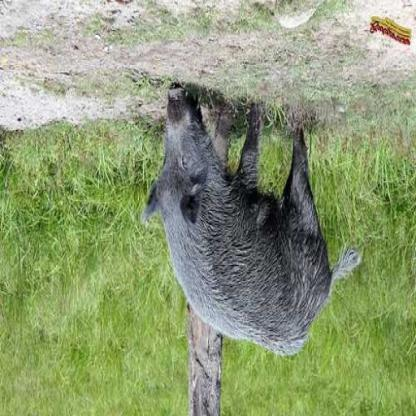boar: (132, 79, 343, 345)
